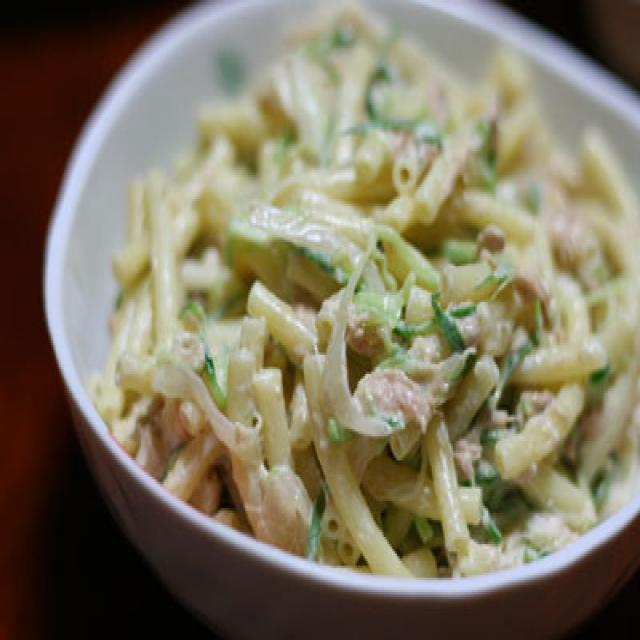蔬菜料理: (35, 0, 640, 640)
